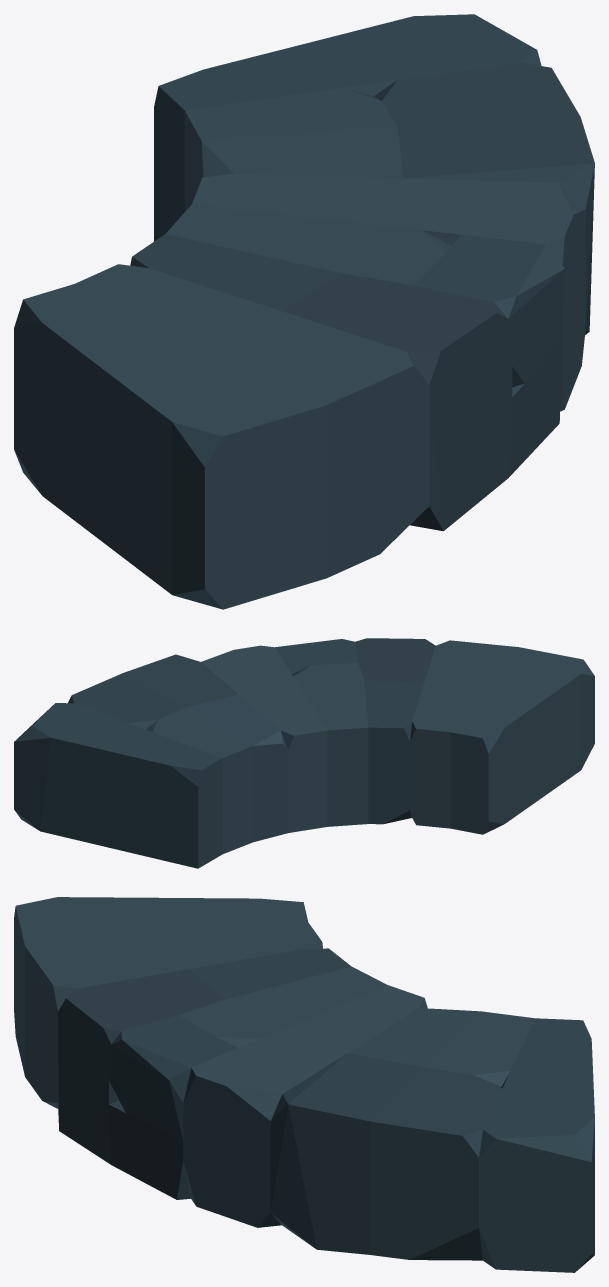
The model's file is level_element_round_corner_1x4x4_conv.fbx.
The picture shows the model from 3 angles, top to bottom: view 1: azimuth 30°, elevation 25°; view 2: azimuth 150°, elevation 25°; view 3: azimuth 270°, elevation 25°; orthographic projection. The views are drawn at different scales.
Visible parts, largest first — view 1: level_element_round_corner_1x4x4_conv; view 2: level_element_round_corner_1x4x4_conv; view 3: level_element_round_corner_1x4x4_conv.
Boxes of the visible parts, left/top/right/bottom form: level_element_round_corner_1x4x4_conv: left=14, top=14, right=594, bottom=609; level_element_round_corner_1x4x4_conv: left=14, top=638, right=594, bottom=868; level_element_round_corner_1x4x4_conv: left=14, top=897, right=594, bottom=1272.
Bounding box in the file's own units: 402 × 108 × 402.
